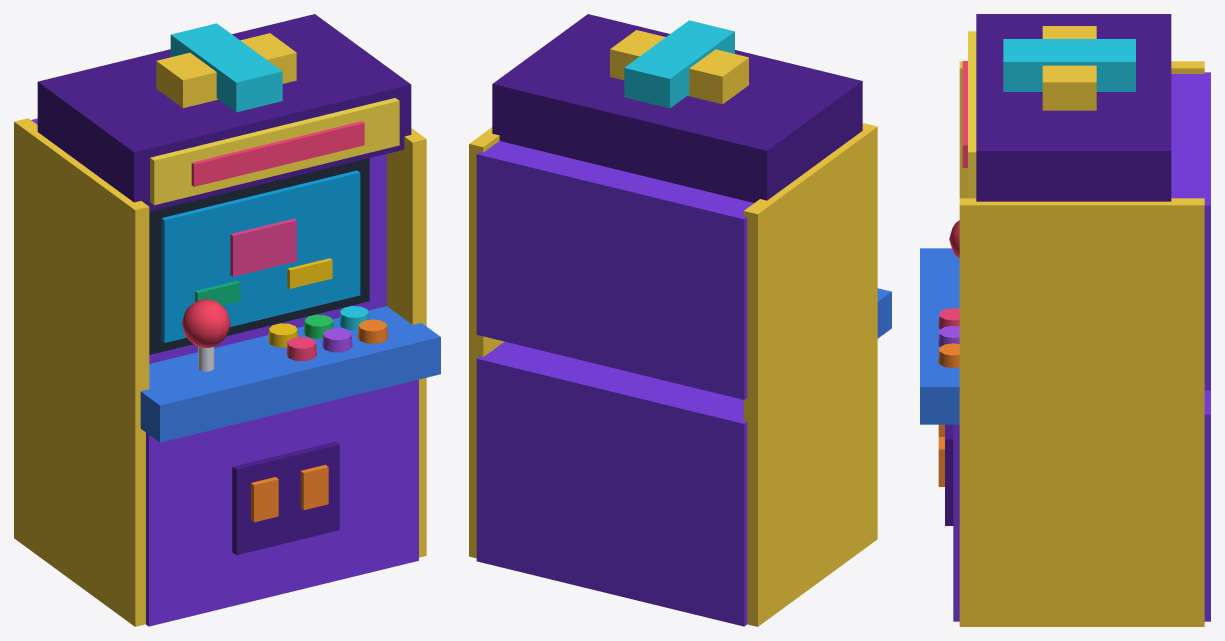
File: w5_07_arcade_boss.glb
3 views of the same model, side by side, from view 1: azimuth 30°, elevation 25°; view 2: azimuth 150°, elevation 25°; view 3: azimuth 270°, elevation 25° (orthographic). The views are drawn at different scales.
Visible parts, largest first — view 1: W5_07_ArcadeBoss; view 2: W5_07_ArcadeBoss; view 3: W5_07_ArcadeBoss.
Boxes of the visible parts, <box> form: W5_07_ArcadeBoss: <box>14,14,440,626</box>; W5_07_ArcadeBoss: <box>469,14,891,626</box>; W5_07_ArcadeBoss: <box>920,14,1210,626</box>.
Size of the model in its own units: 1.64 by 2.68 by 1.4.
1 material, 1 textured.
